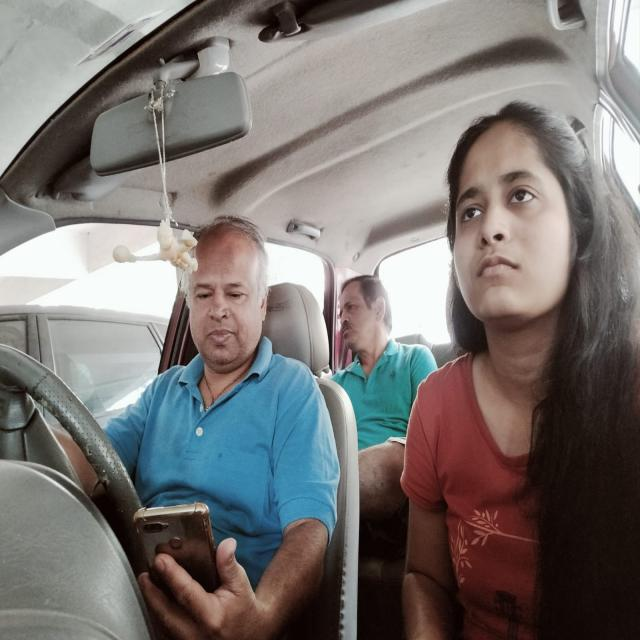mobile: (124, 476, 230, 632)
person: (432, 93, 597, 371), (168, 207, 284, 390), (324, 264, 403, 381)
